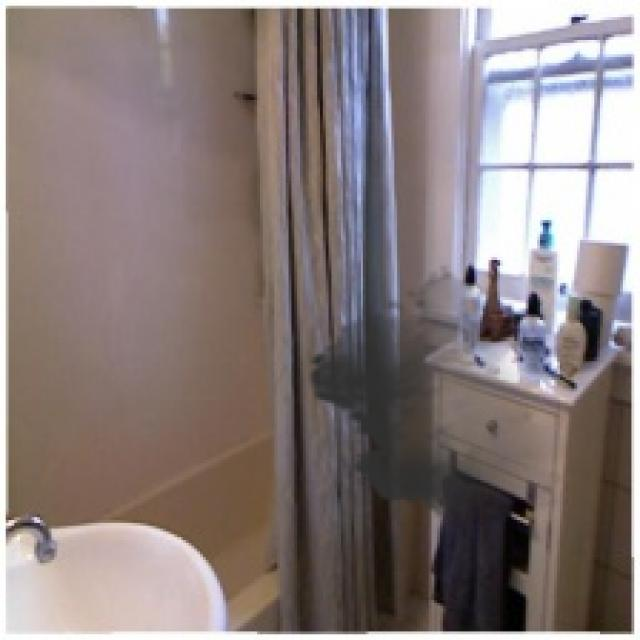smoke: (297, 263, 577, 526)
